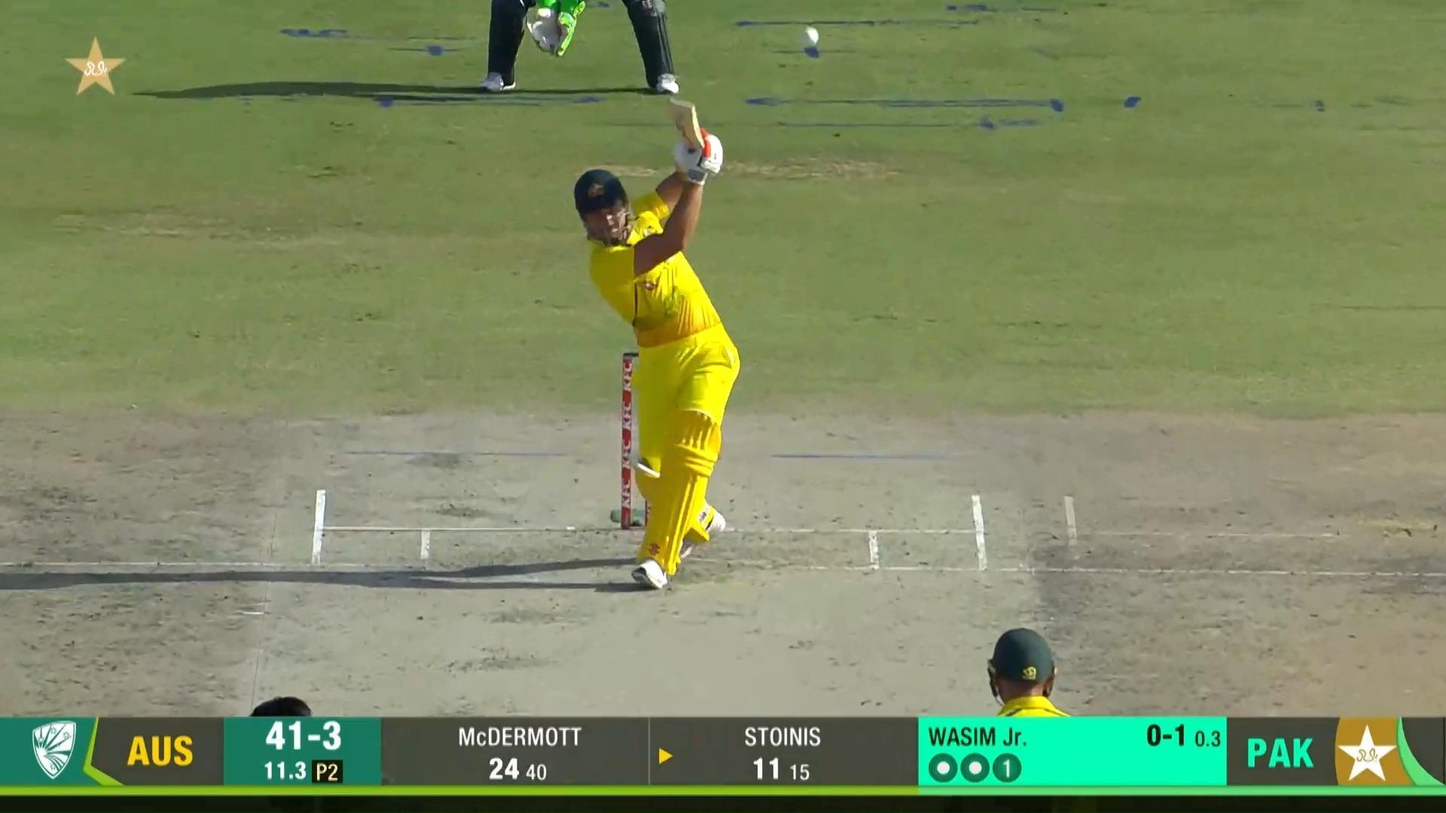BM 1: (570, 92, 744, 595)
BO: (250, 698, 333, 813)
